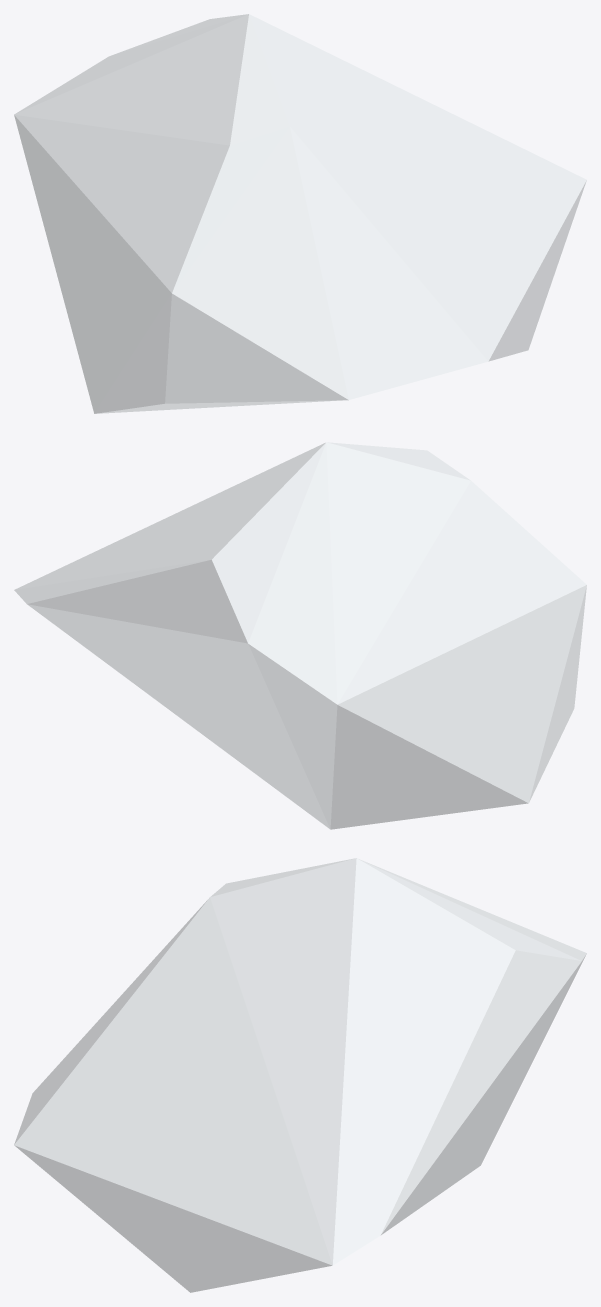
File: shrink_wrap.glb
3 views of the same model, one above another, from view 1: azimuth 30°, elevation 25°; view 2: azimuth 150°, elevation 25°; view 3: azimuth 270°, elevation 25° (orthographic). The views are drawn at different scales.
Visible parts, largest first — view 1: block_wad; view 2: block_wad; view 3: block_wad.
Part boxes in pixels (<box>): block_wad: <box>14,14,586,413</box>; block_wad: <box>14,442,586,829</box>; block_wad: <box>14,858,586,1292</box>.
Bounding box in the file's own units: 0.0786 × 0.0502 × 0.075.
Materials: 1 (1 with a texture image).
